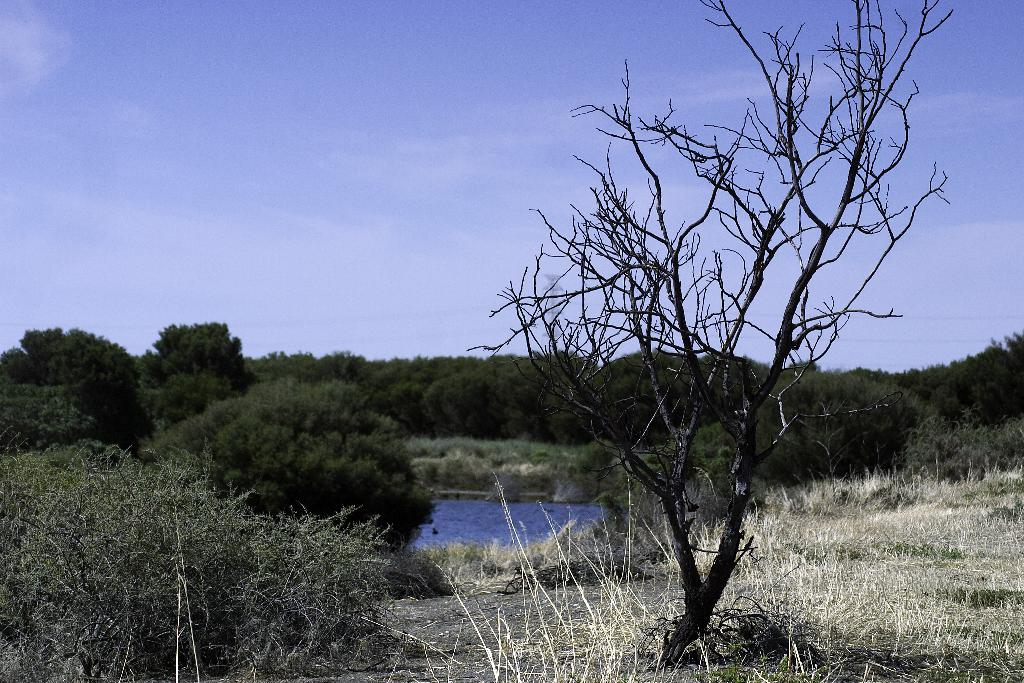Tree: (460, 0, 952, 668), (0, 321, 1023, 550)
